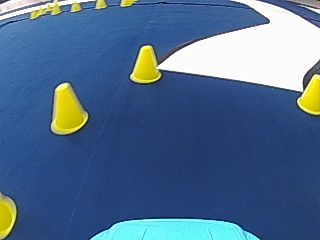cone: (49, 81, 88, 134), (130, 44, 161, 83), (297, 71, 320, 114), (1, 195, 16, 237), (95, 0, 106, 9)
